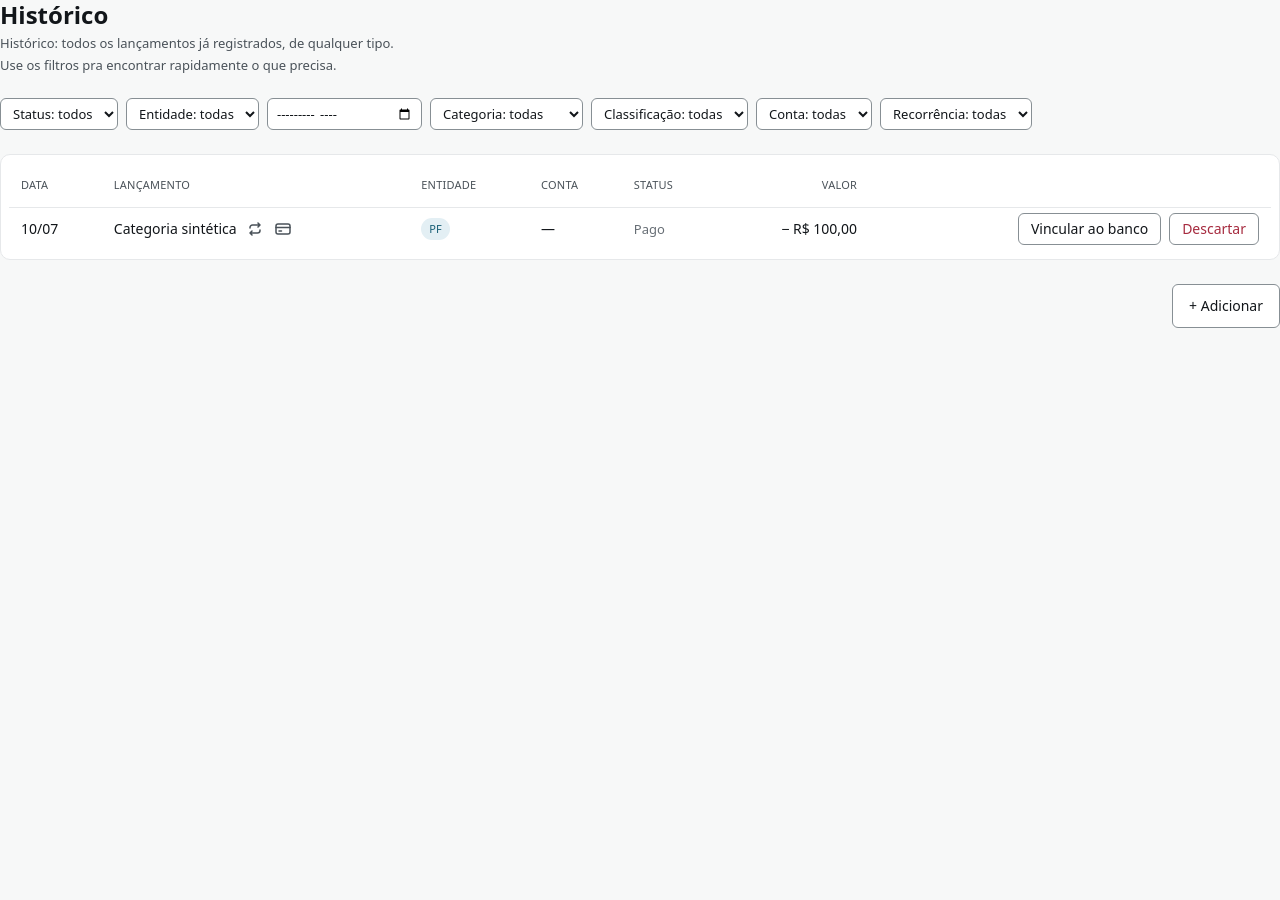
it: Histórico — Descartar lançamento na linha › dono 2026-10-09 — um lançamento feito à mão oferece "Vincular ao banco", sem abrir a edição
The width and height of the screenshot is (1280, 900).
Click the button "Vincular ao banco". click: (1090, 229)
box: x1=1018 y1=213 x2=1161 y2=245
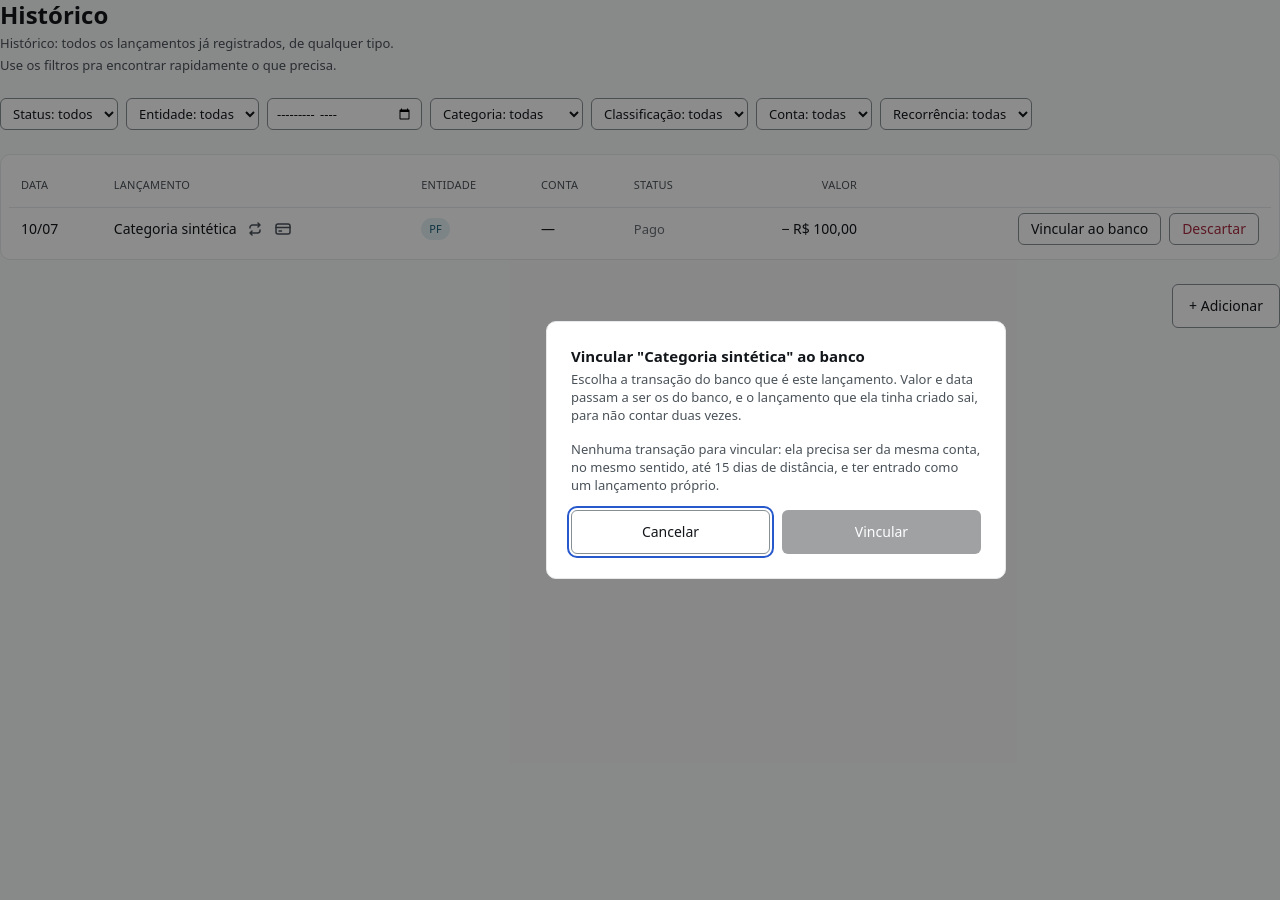
Expected: the dialog "Vincular" is shown, x1=546 y1=321 x2=1006 y2=579
